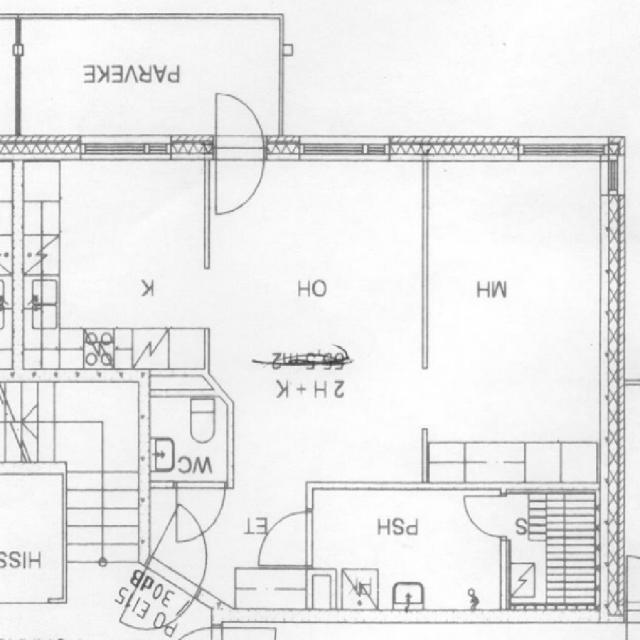door: (145, 502, 230, 601), (216, 79, 266, 161), (216, 135, 266, 216), (176, 484, 225, 544), (259, 513, 313, 566), (463, 496, 510, 539)
